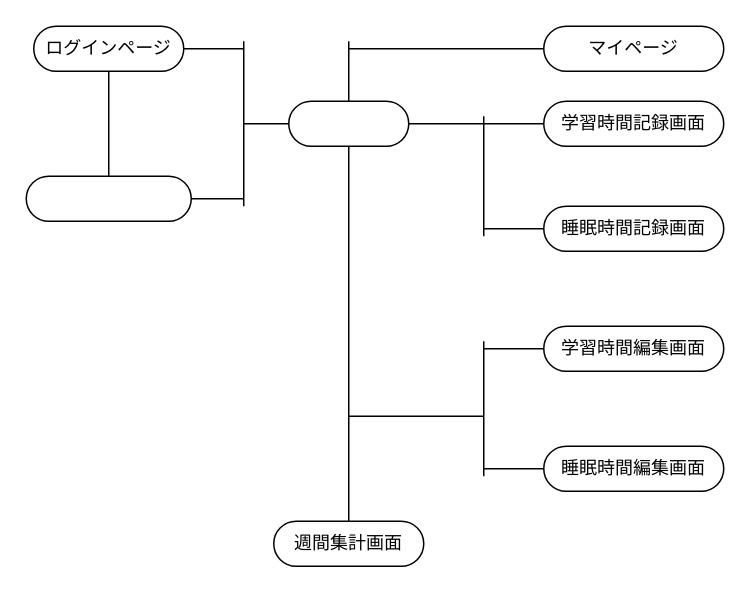
This 750x593 diagram has some shape labels left out. The shapes that lost their labels are listed below. From the top down, each one's box as (x1, y1, x2, y2) in pixels, then its label:
(287, 100, 409, 146): 日別一覧画面
(25, 175, 191, 221): ユーザー登録ページ
